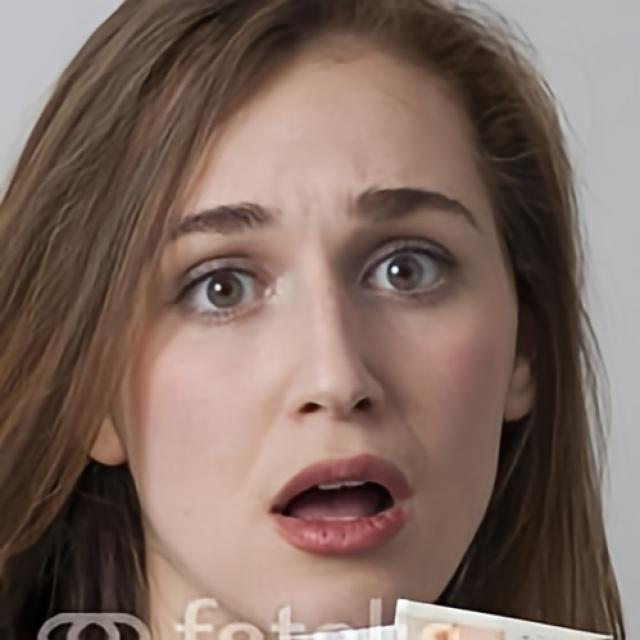fear: (110, 31, 514, 640)
